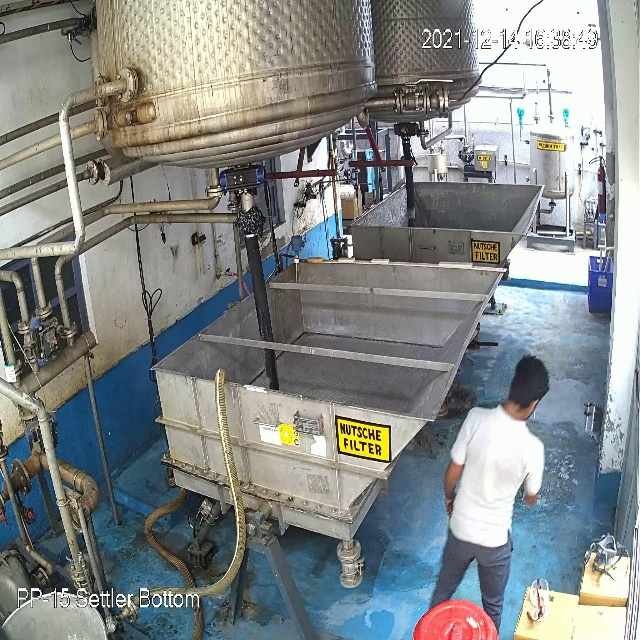Sin_guantes: (437, 457, 461, 514)
